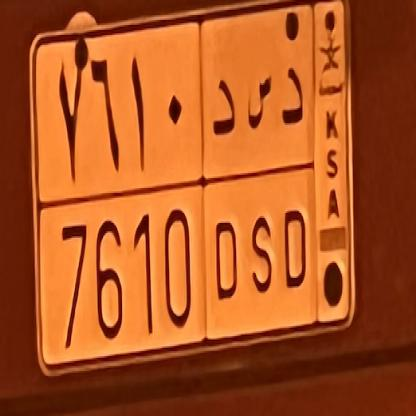english: (34, 183, 331, 362)
